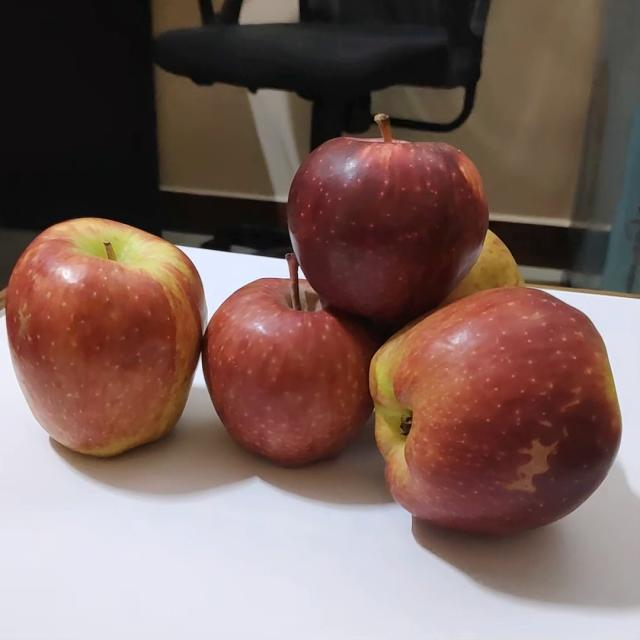apple: (355, 290, 619, 548), (2, 214, 203, 462), (274, 108, 486, 327), (194, 250, 374, 472), (408, 219, 533, 317)
